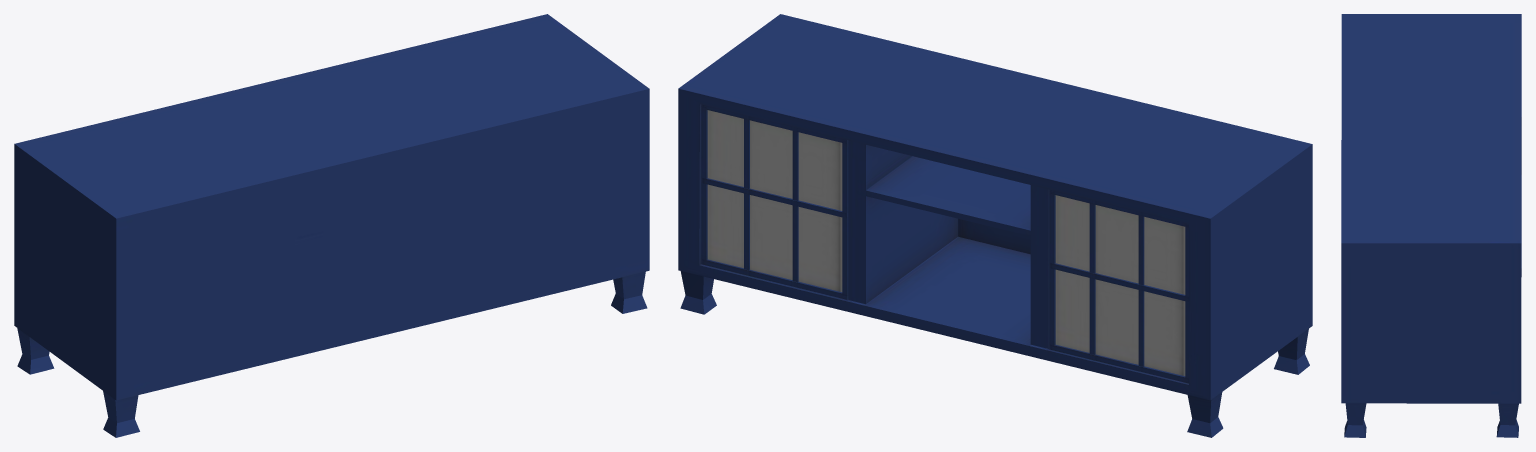
The model's file is frl_apartment_tvstand.glb.
The picture shows the model from 3 angles, left to right: view 1: azimuth 30°, elevation 25°; view 2: azimuth 150°, elevation 25°; view 3: azimuth 270°, elevation 25°; orthographic projection. The views are drawn at different scales.
Parts seen in each view (by area): view 1: frl_apartment_tvstand; view 2: frl_apartment_tvstand; view 3: frl_apartment_tvstand.
Boxes of the visible parts, x1,y1,x2,y2 form: frl_apartment_tvstand: (14, 14, 649, 437); frl_apartment_tvstand: (678, 14, 1312, 437); frl_apartment_tvstand: (1341, 14, 1521, 437).
Bounding box in the file's own units: 1.52 × 0.6011 × 0.5044.
1 material, 1 textured.
